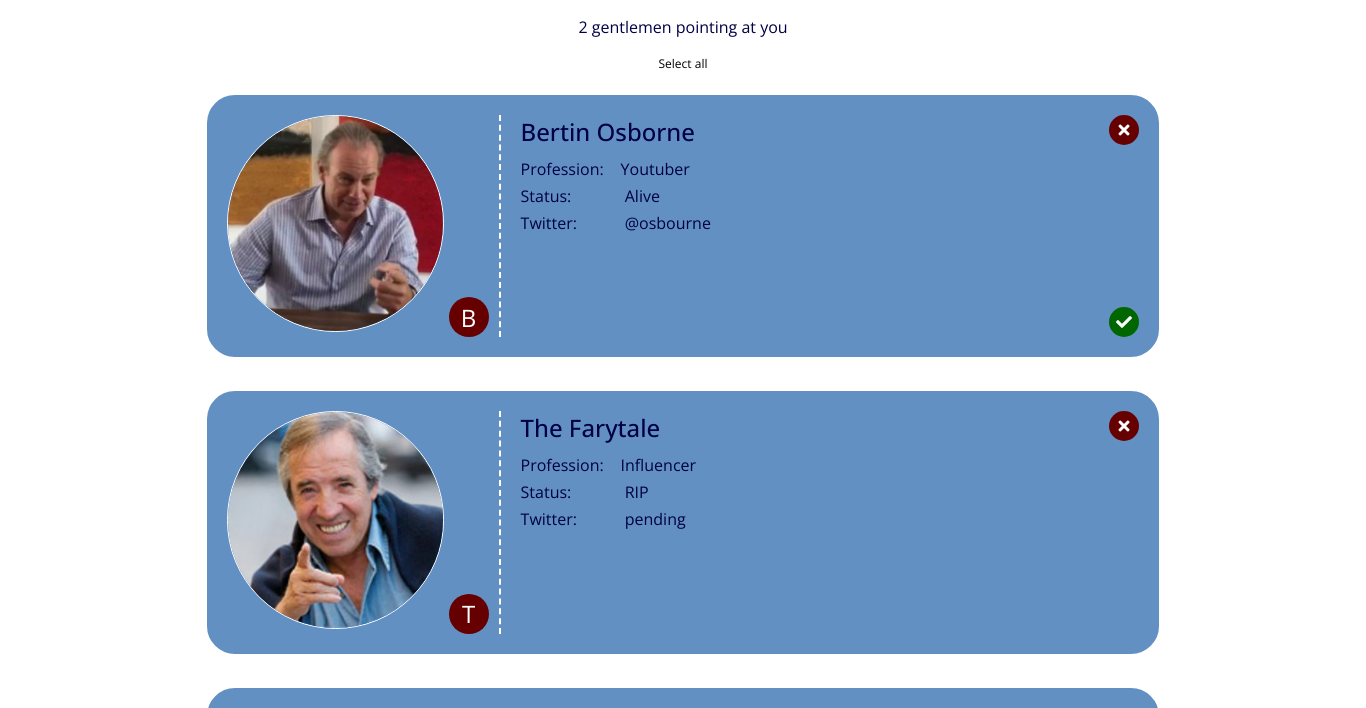
Test: Given Gentleman component › Click button Select all and screen shows a 3
Click the button. click: [683, 64]
box: top-left (652, 54), bottom-right (714, 73)
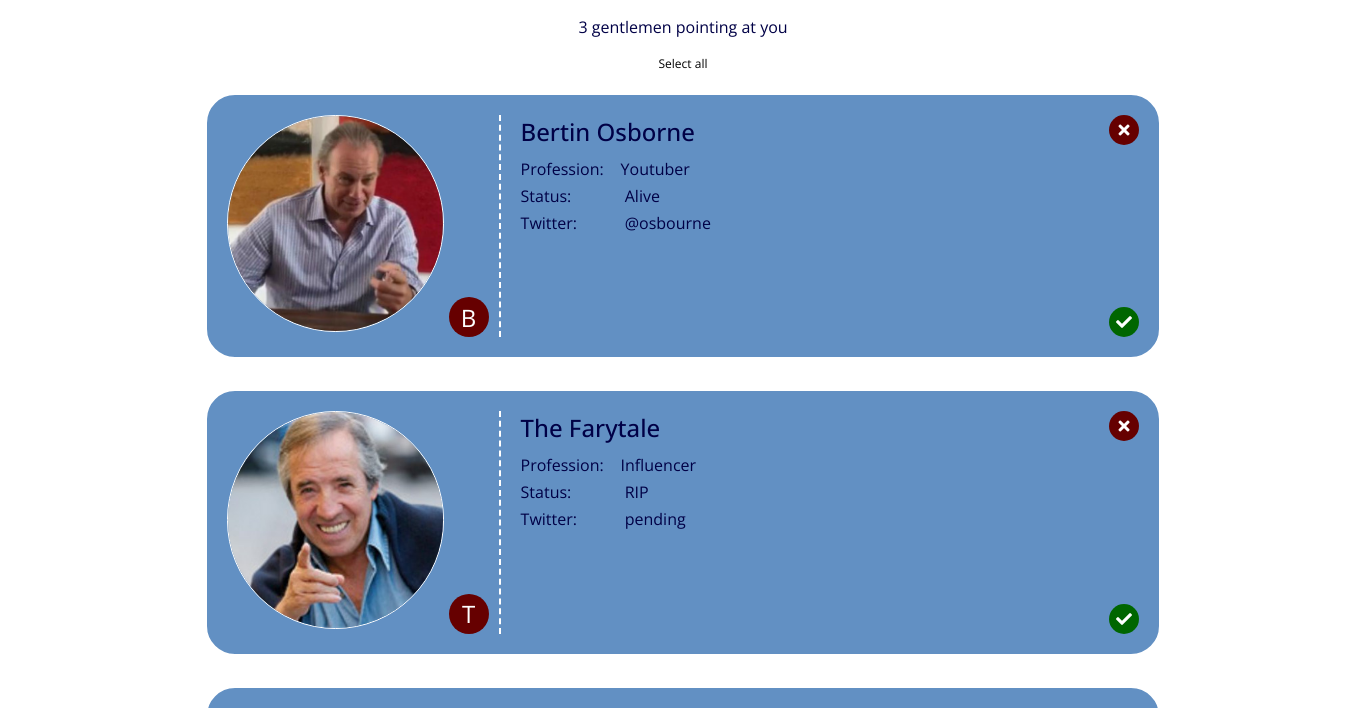
Check: the text "3 gentlemen pointing at you" is shown, box top-left (578, 16), bottom-right (788, 38)
